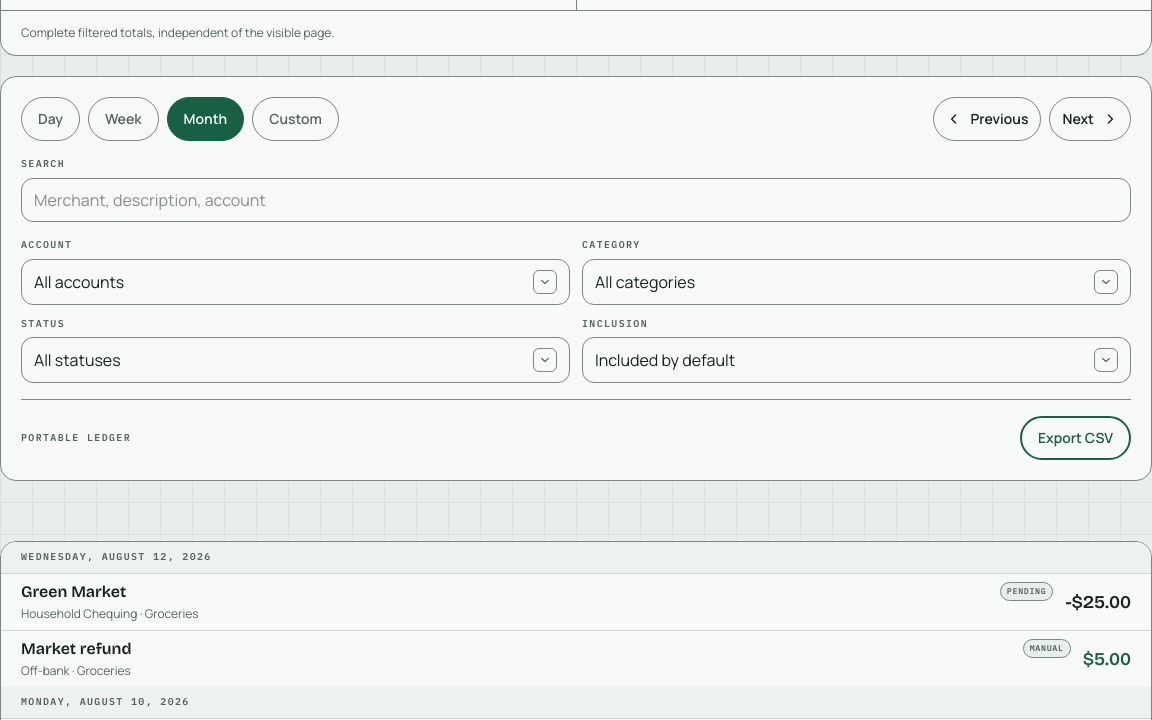
Test: GH-30 transaction explorer › COMP-002 sends both applied filters and renders the narrowed set
(page scrolled)
What coordinates should you click on to do the following:
click the dropdown with test id "transactions-status-filter"
I would click on:
 (77, 360)
Its box is x1=21 y1=337 x2=570 y2=383.
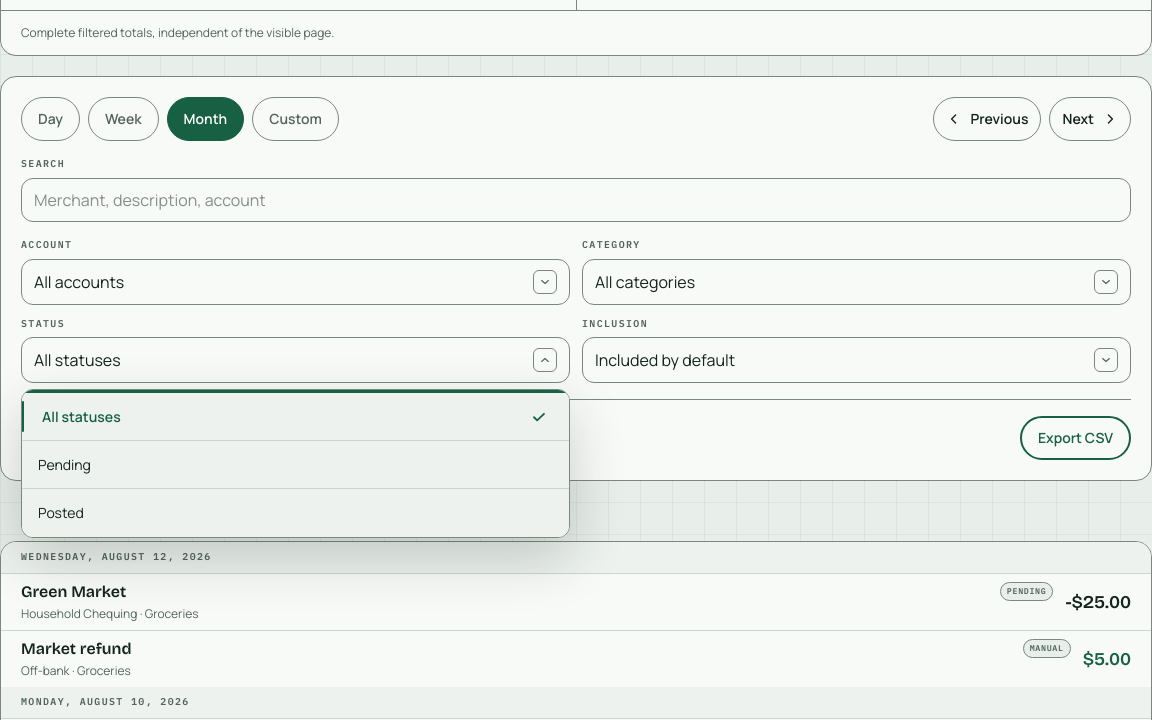
What coordinates should you click on to do the following:
click the option "Pending"
I would click on:
 (64, 464)
Its box is x1=22 y1=441 x2=569 y2=489.
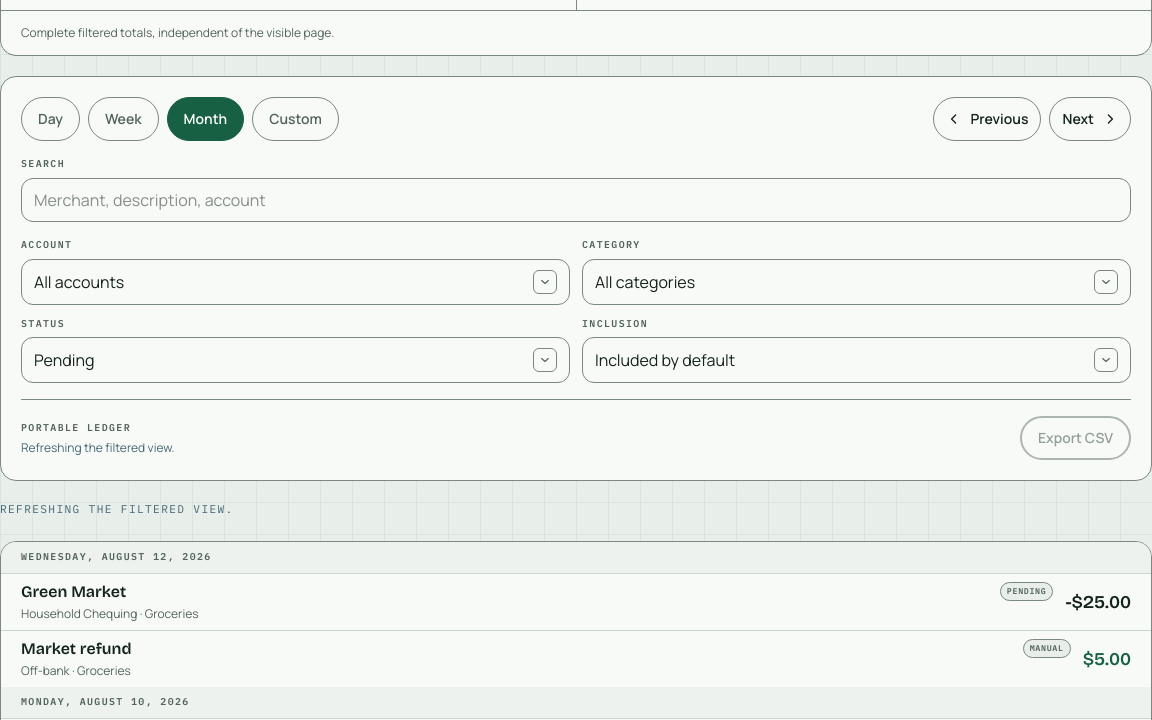
What coordinates should you click on to do the following:
click the dropdown with test id "transactions-inclusion-filter"
I would click on:
 (665, 360)
Its box is x1=582 y1=337 x2=1131 y2=383.
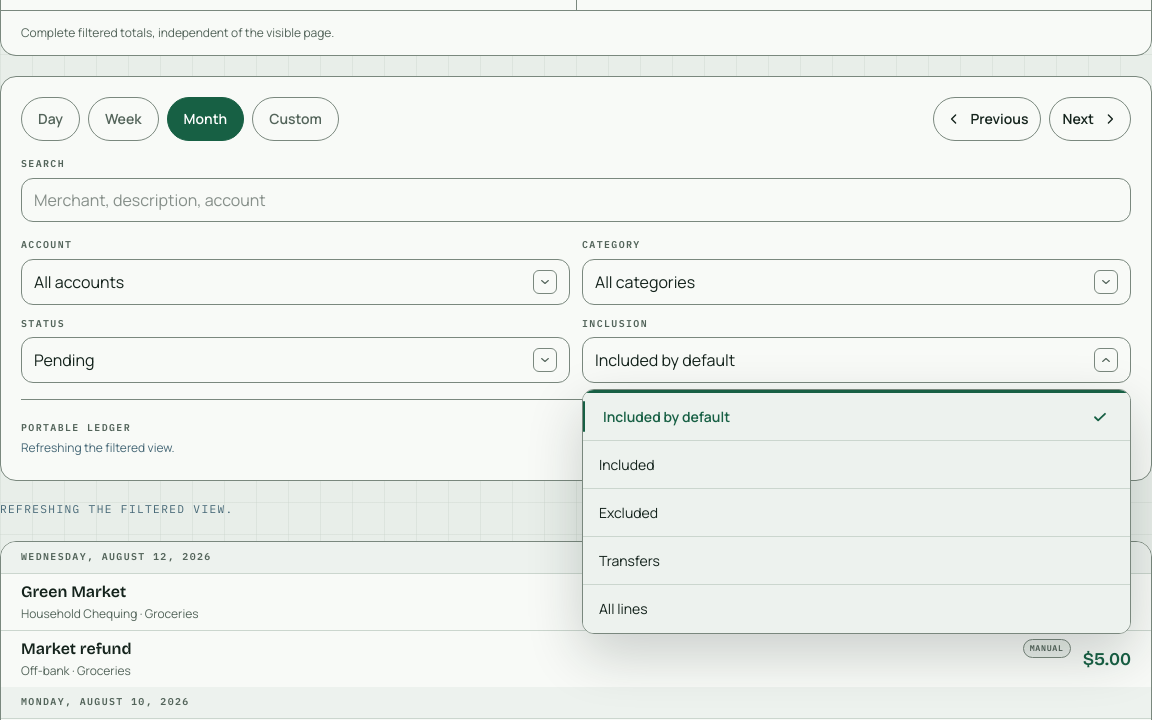
What coordinates should you click on to do the following:
click the option "All lines"
I would click on:
 (623, 609)
Its box is x1=599 y1=599 x2=648 y2=618.
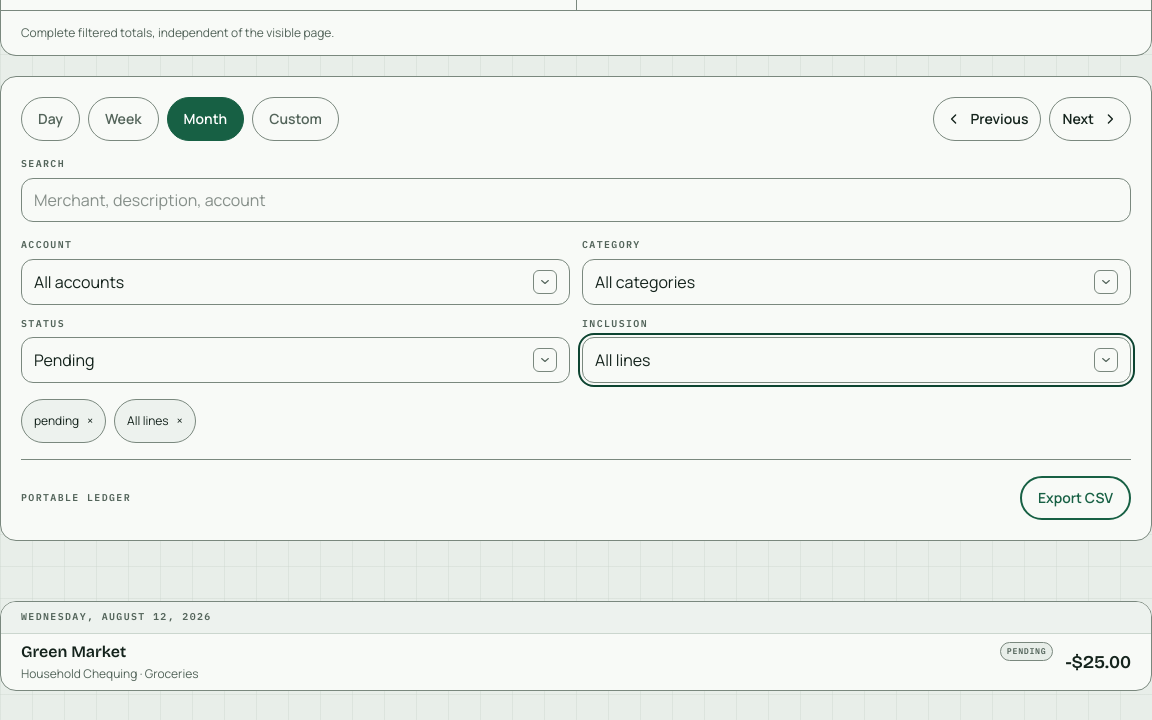
Expected: the button with test id "transactions-result-plaid-pending" is shown, x1=1 y1=634 x2=1151 y2=690
Expected: the button with test id "transactions-result-manual-refund" is gone
Expected: the button with test id "transactions-filter-chip-inclusion" shows "All lines", x1=114 y1=399 x2=196 y2=443
